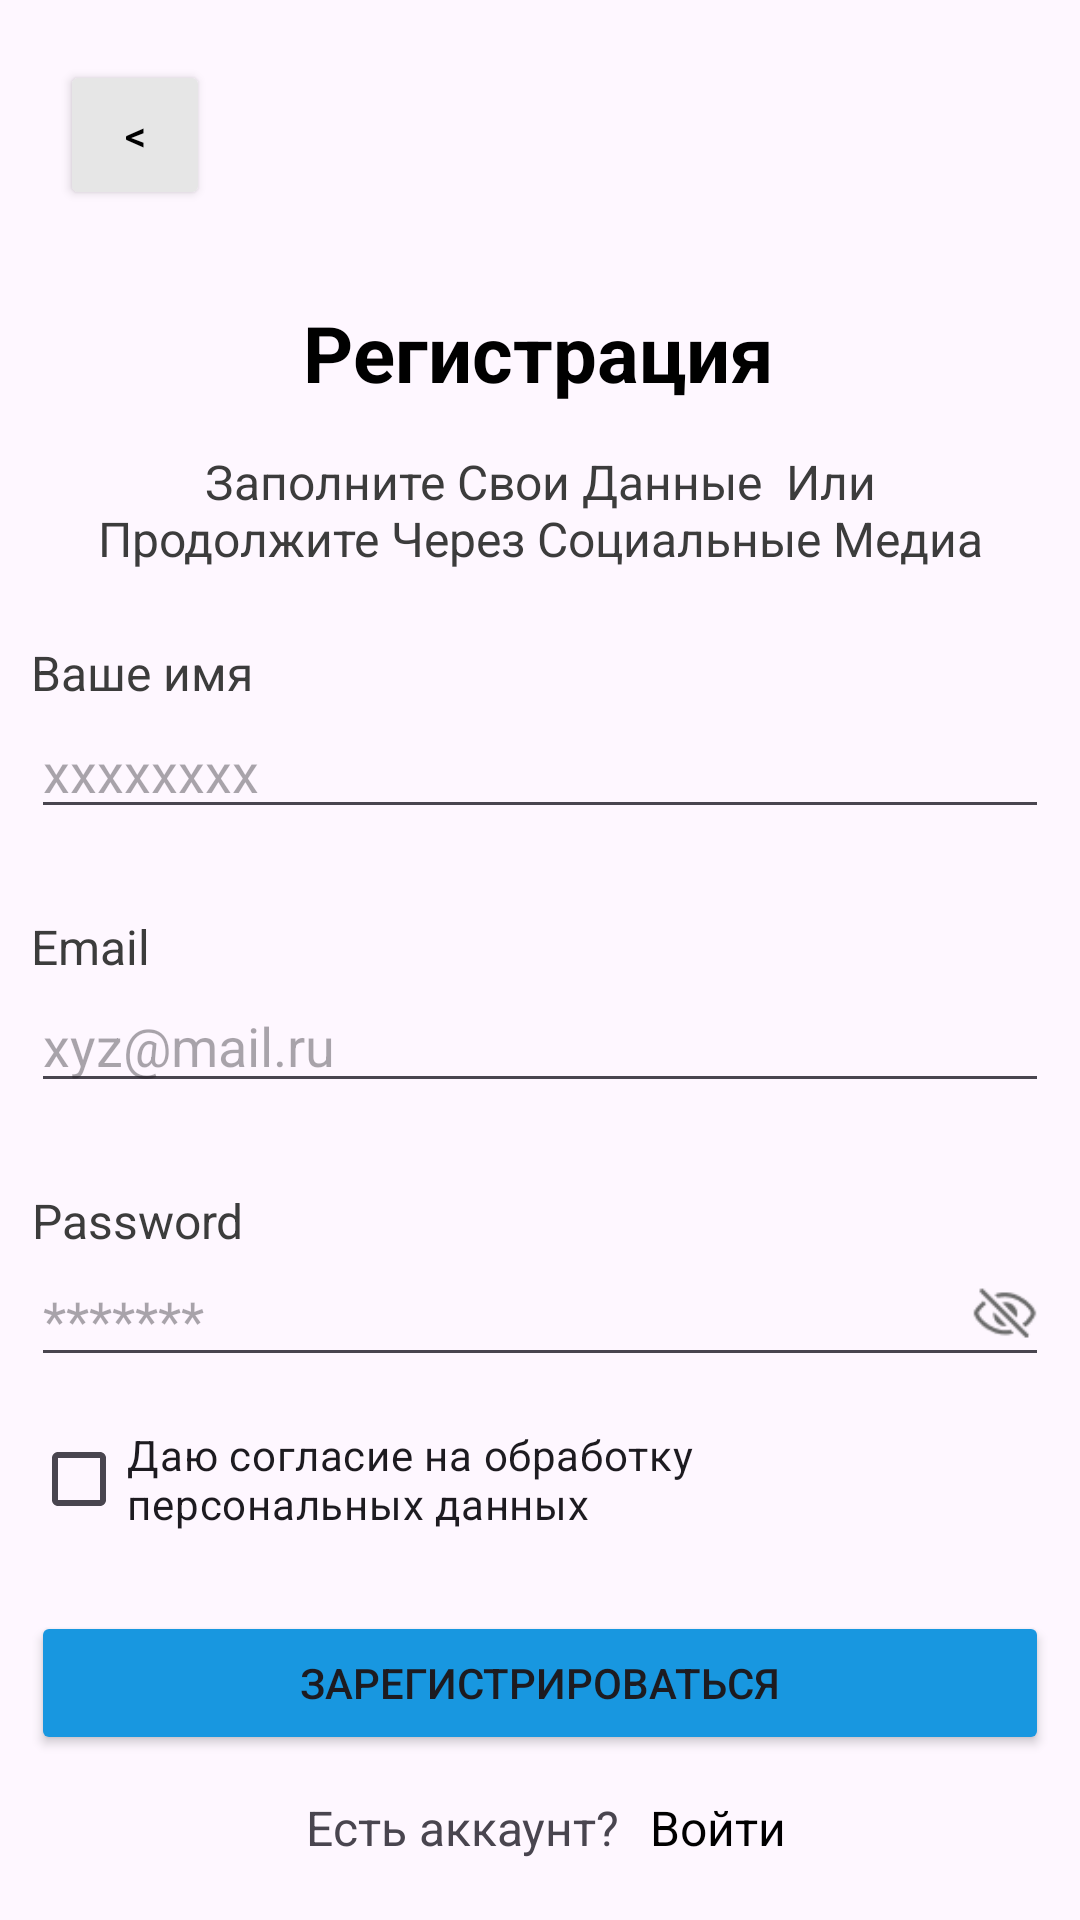

Locate icon controls on the screen. Image size 1080*1920, boxes as [x1,y1,x2,y2].
show password: [973,1288,1036,1338]
